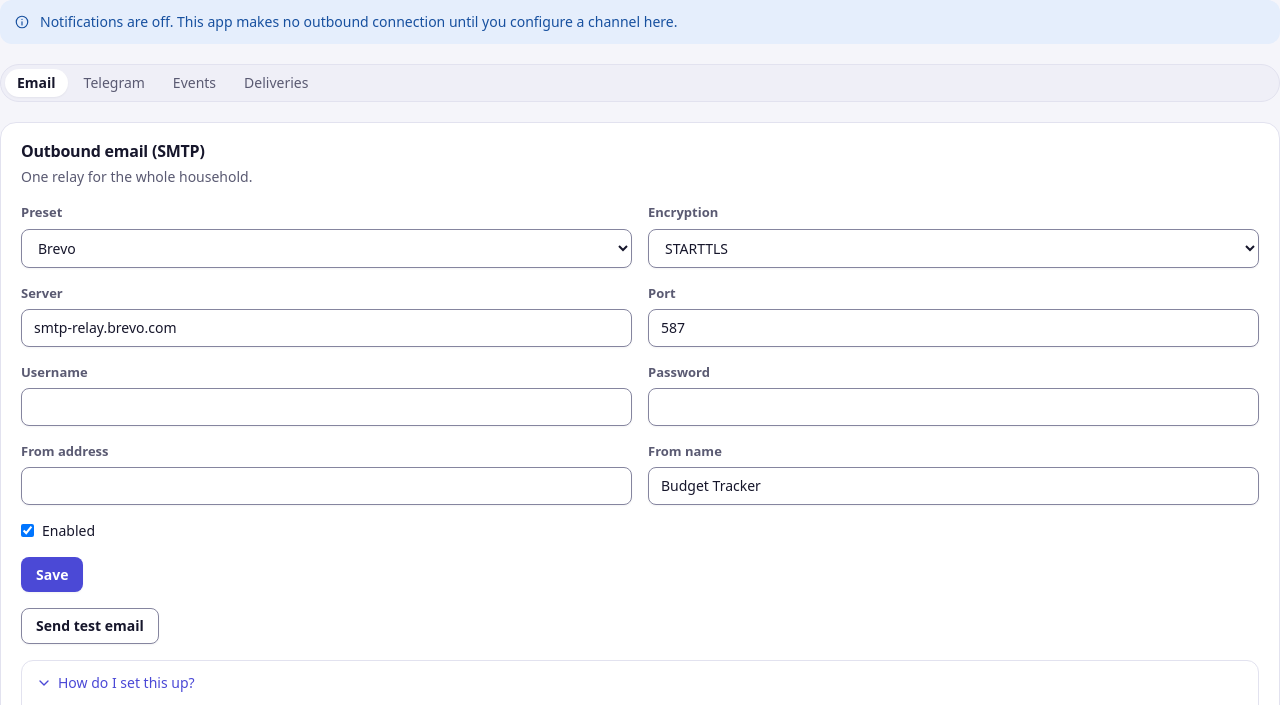
MUST-11.1 / §11.3: the admin SMTP section › MUST-8.15 / MUST-11.7: changing the preset prefills host/port/security and swaps the guide
Select "Gmail" in the dropdown labelled "Preset" at (326, 248), box x1=21 y1=228 x2=632 y2=268
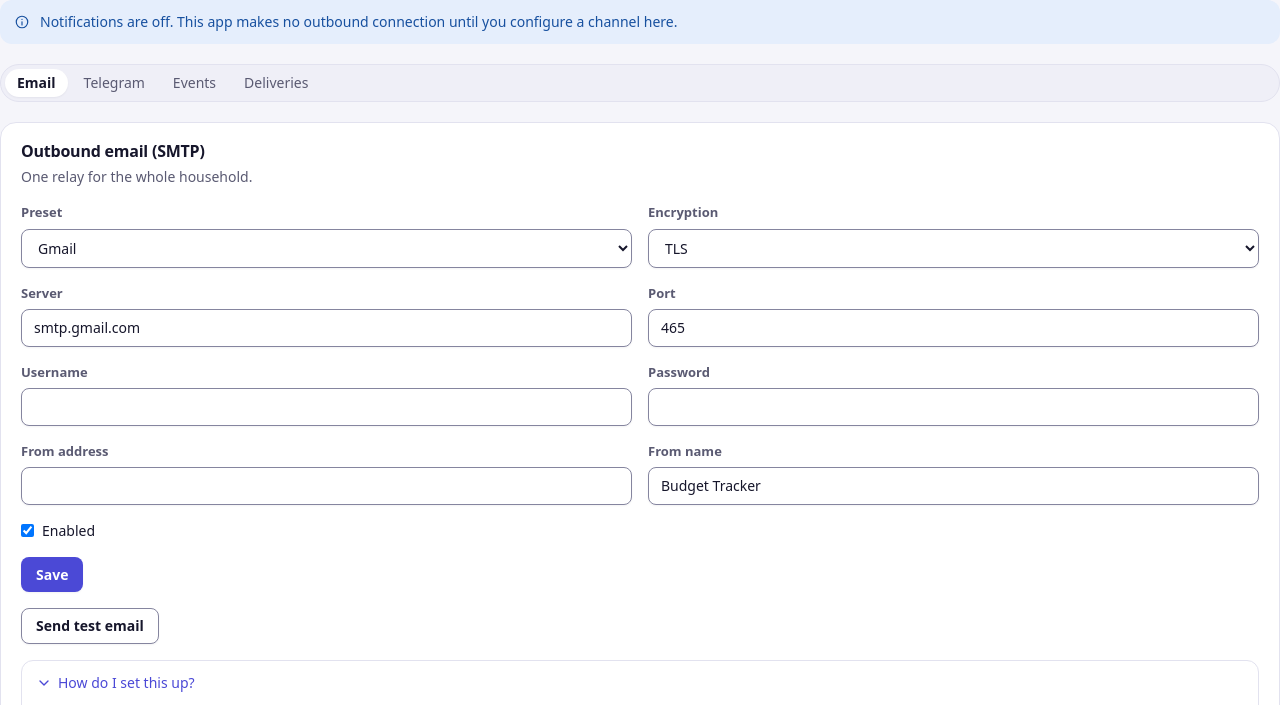
expect the field labelled "Server" holds "smtp.gmail.com": met, box x1=21 y1=309 x2=632 y2=347
expect the field labelled "Port" holds "465": met, box x1=648 y1=309 x2=1259 y2=347
expect the dropdown labelled "Encryption" shows "TLS": met, box x1=648 y1=228 x2=1259 y2=268
Select "SMTP2GO" in the dropdown labelled "Preset" at (326, 248), box x1=21 y1=228 x2=632 y2=268
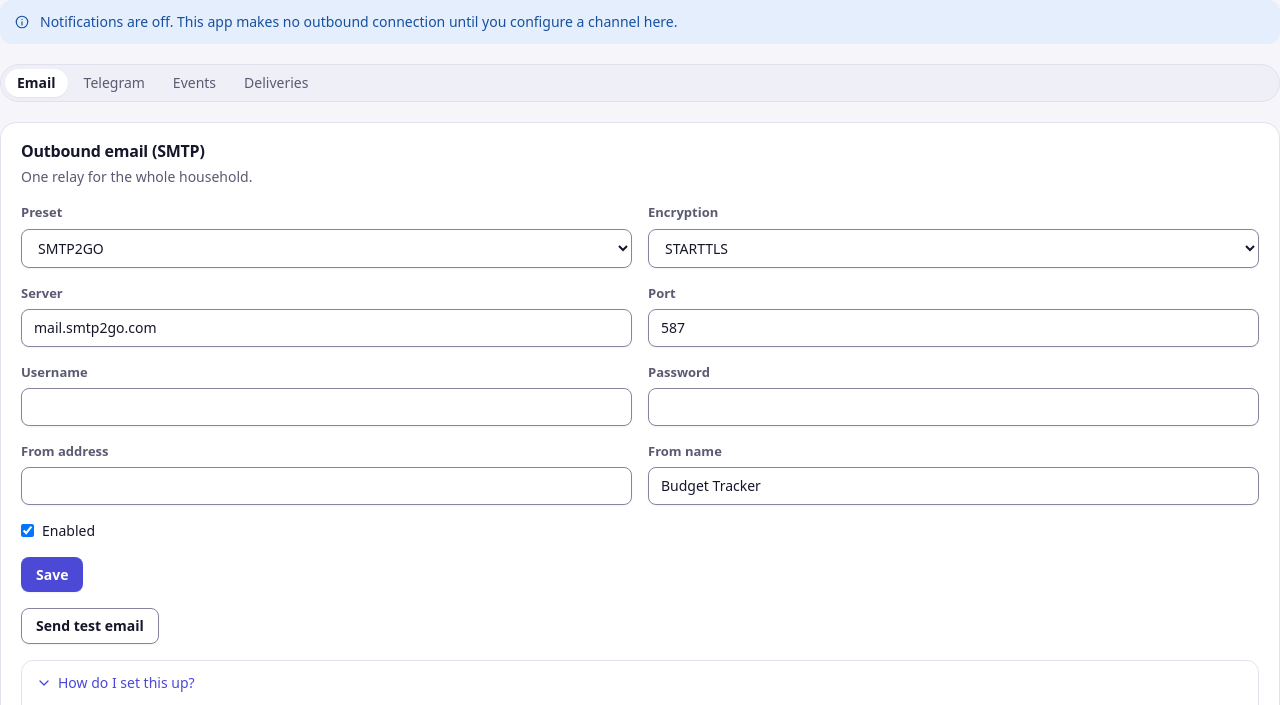
expect the field labelled "Server" holds "mail.smtp2go.com": met, box x1=21 y1=309 x2=632 y2=347
